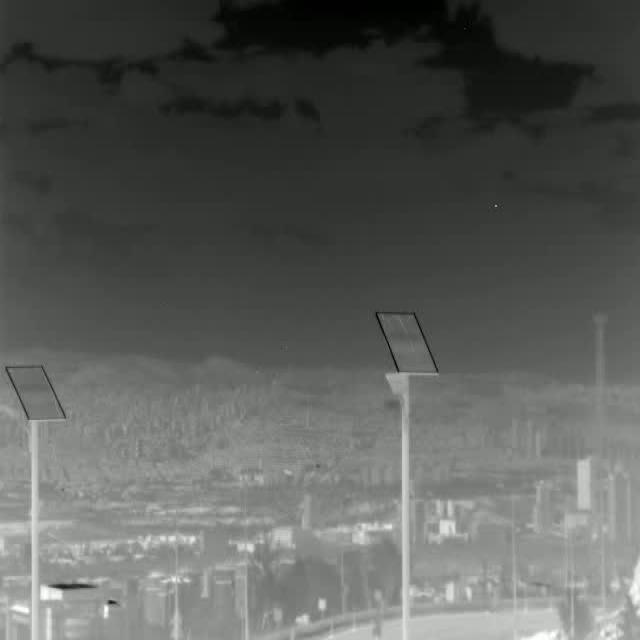Motorcycle: (369, 621, 384, 640)
